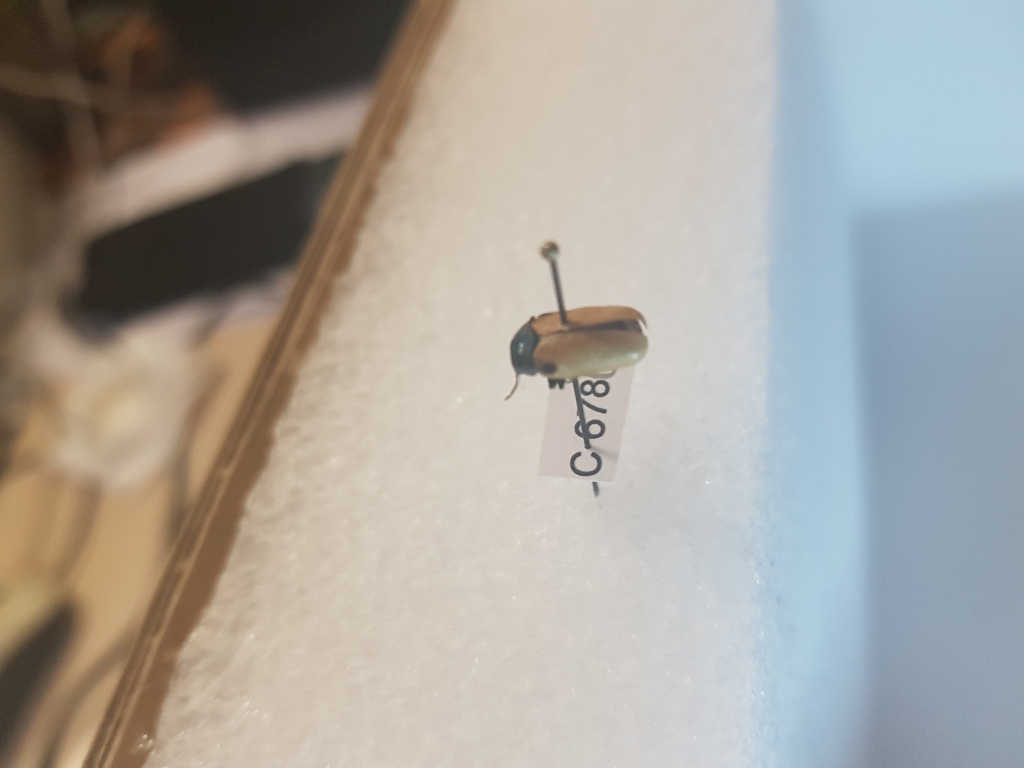Labidostomis_longimana: (492, 303, 654, 404)
